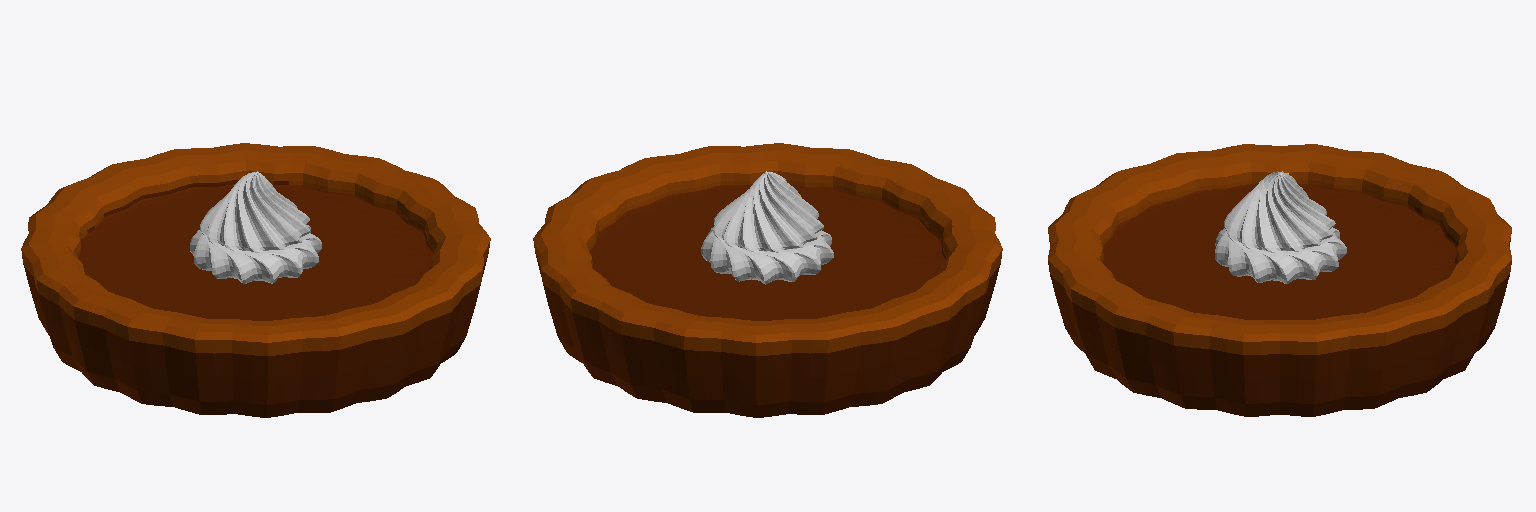
File: Pie01.obj
The picture shows the model from 3 angles: view 1: azimuth 30°, elevation 25°; view 2: azimuth 150°, elevation 25°; view 3: azimuth 270°, elevation 25°; orthographic projection.
Parts seen in each view (by area): view 1: Pie01_Cylinder.005; view 2: Pie01_Cylinder.005; view 3: Pie01_Cylinder.005.
Boxes of the visible parts, box(x1,y1,x2,y2) form: Pie01_Cylinder.005: box(21, 143, 490, 417); Pie01_Cylinder.005: box(533, 143, 1002, 417); Pie01_Cylinder.005: box(1048, 144, 1511, 416).
Size of the model in its own units: 2.07 by 0.8281 by 2.07.